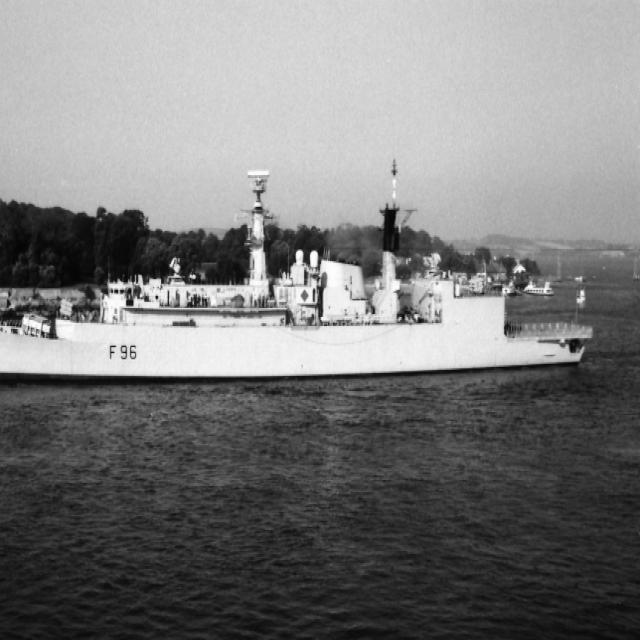Fragata: (1, 153, 594, 388)
